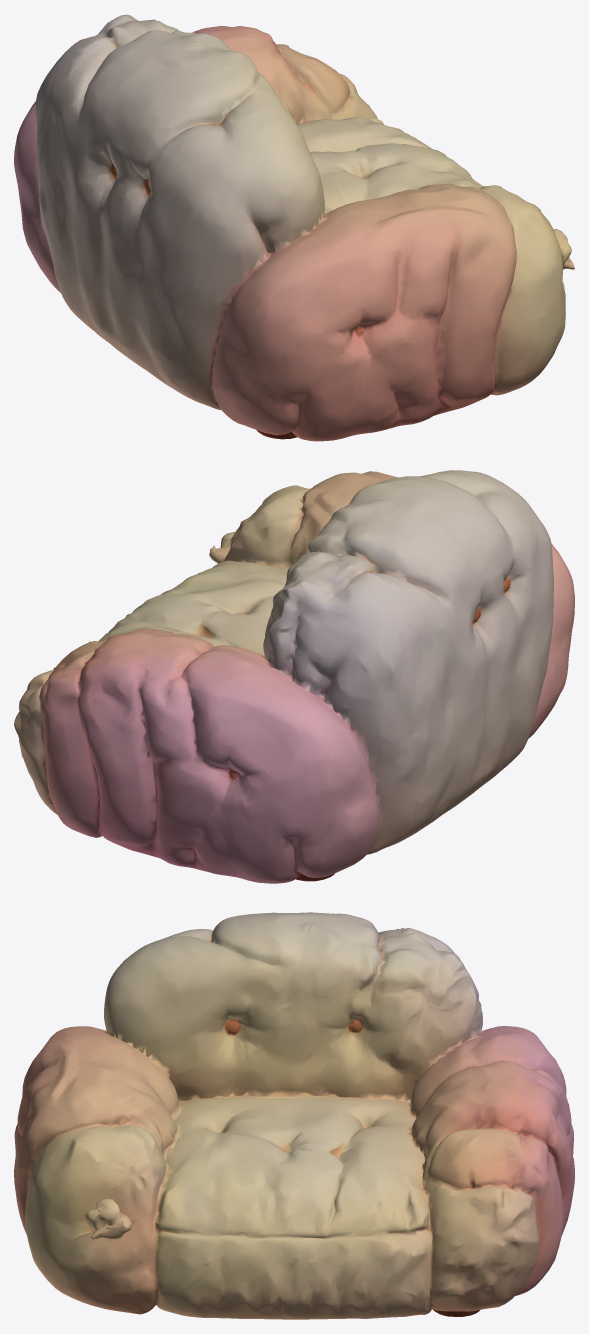
File: sofa_h3.glb
3 views of the same model, one above another, from view 1: azimuth 30°, elevation 25°; view 2: azimuth 150°, elevation 25°; view 3: azimuth 270°, elevation 25° (orthographic). The views are drawn at different scales.
Visible parts, largest first — view 1: tripo_node_cf2a6073-5f14-4694-b08b-45ca8a7ab652; view 2: tripo_node_cf2a6073-5f14-4694-b08b-45ca8a7ab652; view 3: tripo_node_cf2a6073-5f14-4694-b08b-45ca8a7ab652.
Part boxes in pixels (x1,y1,x2,y2): tripo_node_cf2a6073-5f14-4694-b08b-45ca8a7ab652: (14,14,574,441); tripo_node_cf2a6073-5f14-4694-b08b-45ca8a7ab652: (14,470,574,883); tripo_node_cf2a6073-5f14-4694-b08b-45ca8a7ab652: (14,912,574,1319).
Size of the model in its own units: 0.7479 by 0.5808 by 1.
Materials: 1 (1 with a texture image).
